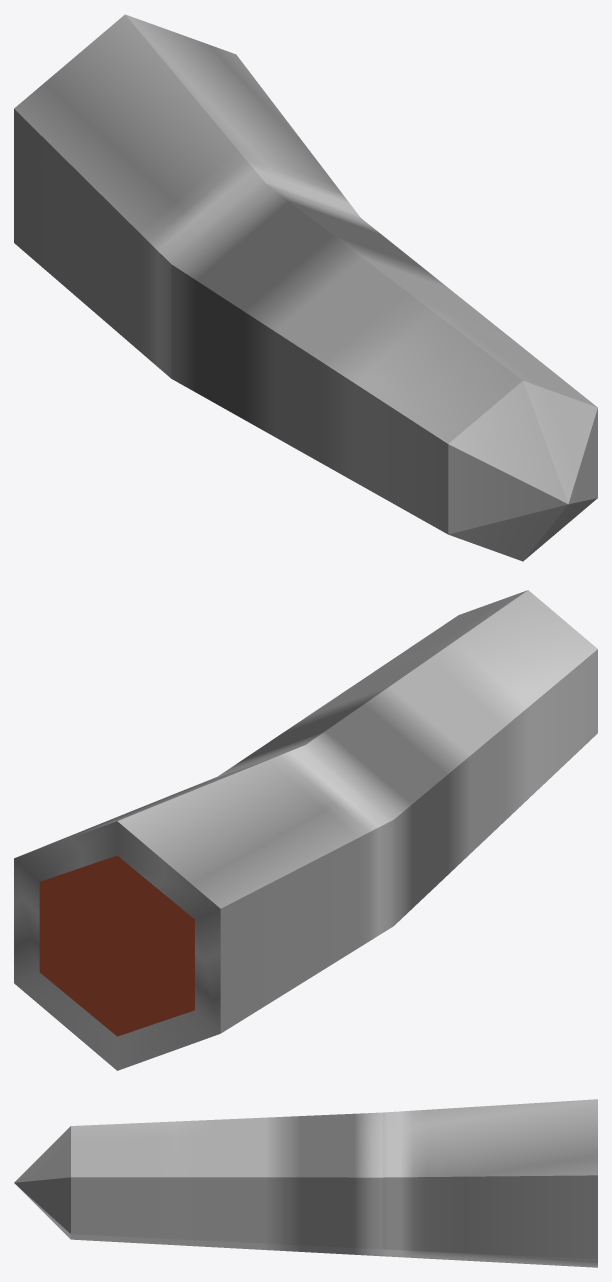
Rendered from SM_Gen_Prop_Food_Vegetable_06.glb.
3 views of the same model, one above another, from view 1: azimuth 30°, elevation 25°; view 2: azimuth 150°, elevation 25°; view 3: azimuth 270°, elevation 25° (orthographic). The views are drawn at different scales.
Visible parts, largest first — view 1: SM_Gen_Prop_Food_Vegetable_06; view 2: SM_Gen_Prop_Food_Vegetable_06; view 3: SM_Gen_Prop_Food_Vegetable_06.
Part boxes in pixels (left/top/right/bottom): SM_Gen_Prop_Food_Vegetable_06: left=14, top=14, right=597, bottom=561; SM_Gen_Prop_Food_Vegetable_06: left=14, top=590, right=597, bottom=1070; SM_Gen_Prop_Food_Vegetable_06: left=14, top=1099, right=597, bottom=1267.
Size of the model in its own units: 0.0685 by 0.0743 by 0.2334.
1 material, 1 textured.
